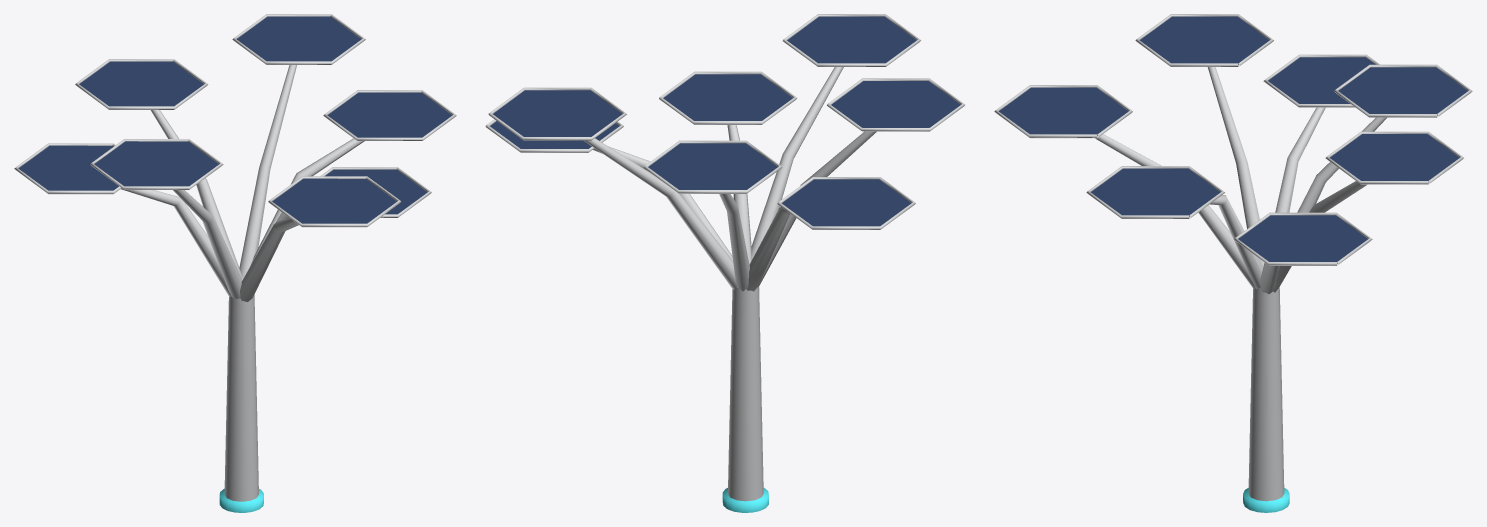
The model's file is SM_SolarTree.fbx.
3 renders of one model, left to right at view 1: azimuth 30°, elevation 25°; view 2: azimuth 150°, elevation 25°; view 3: azimuth 270°, elevation 25°, orthographic. The views are drawn at different scales.
Parts seen in each view (by area): view 1: SM_SolarTree; view 2: SM_SolarTree; view 3: SM_SolarTree.
Boxes of the visible parts, x1,y1,x2,y2 form: SM_SolarTree: [14, 14, 456, 512]; SM_SolarTree: [485, 14, 964, 512]; SM_SolarTree: [994, 14, 1472, 512].
Bounding box in the file's own units: 915 × 866 × 923.
